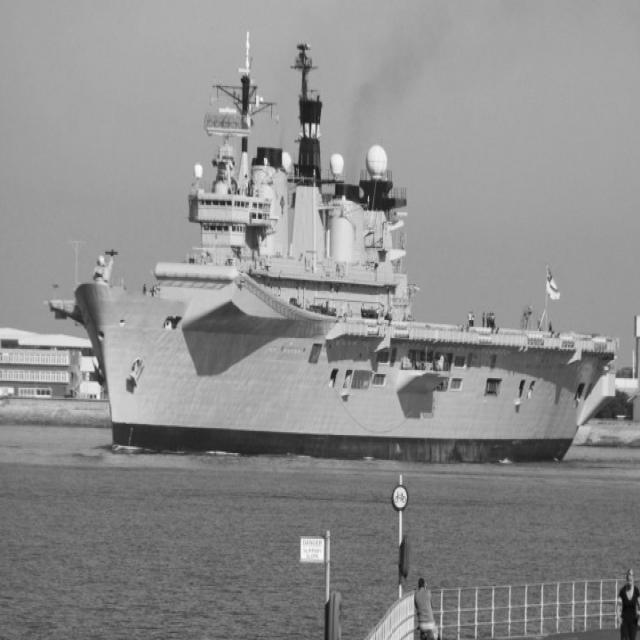Portanaves: (46, 21, 625, 460)
